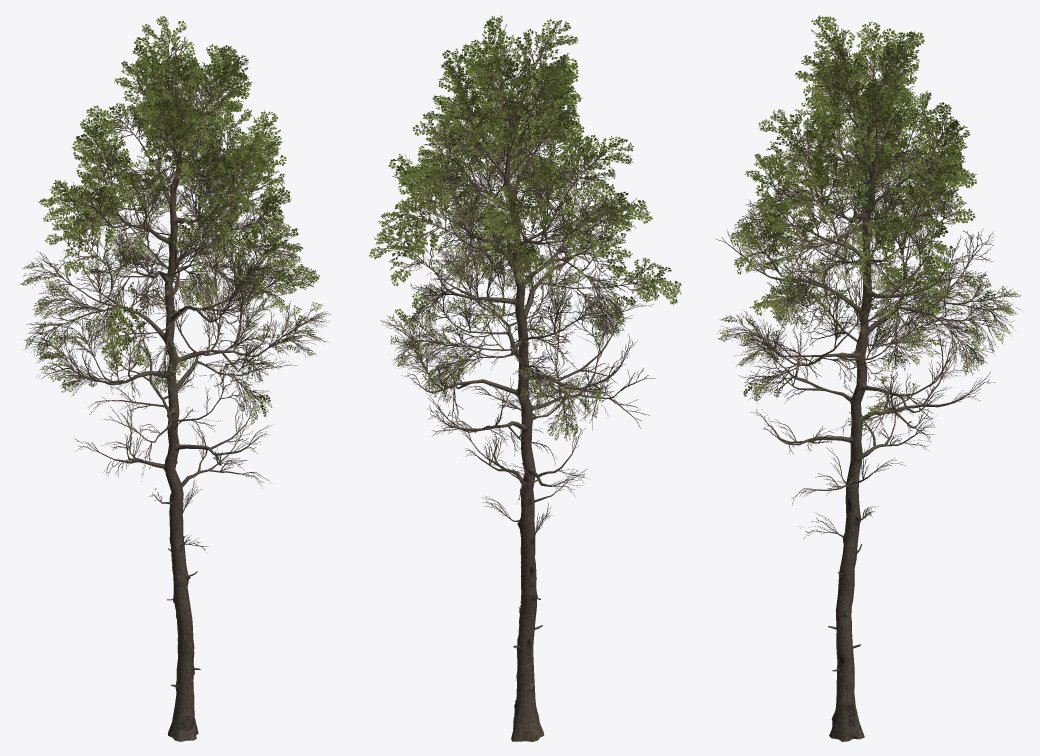
Rendered from SM_BlackAlder_Forest_01_PP_LOD3.gltf.
3 views of the same model, side by side, from view 1: azimuth 30°, elevation 25°; view 2: azimuth 150°, elevation 25°; view 3: azimuth 270°, elevation 25° (orthographic). The views are drawn at different scales.
Parts seen in each view (by area): view 1: SM_BlackAlder_Forest_01_PP; view 2: SM_BlackAlder_Forest_01_PP; view 3: SM_BlackAlder_Forest_01_PP.
Part boxes in pixels (box(x1,y1,x2,y2)): SM_BlackAlder_Forest_01_PP: box(18, 16, 331, 741); SM_BlackAlder_Forest_01_PP: box(369, 15, 681, 741); SM_BlackAlder_Forest_01_PP: box(716, 15, 1021, 741).
Size of the model in its own units: 8.16 by 20.9 by 8.34.
3 materials, 3 textured.
